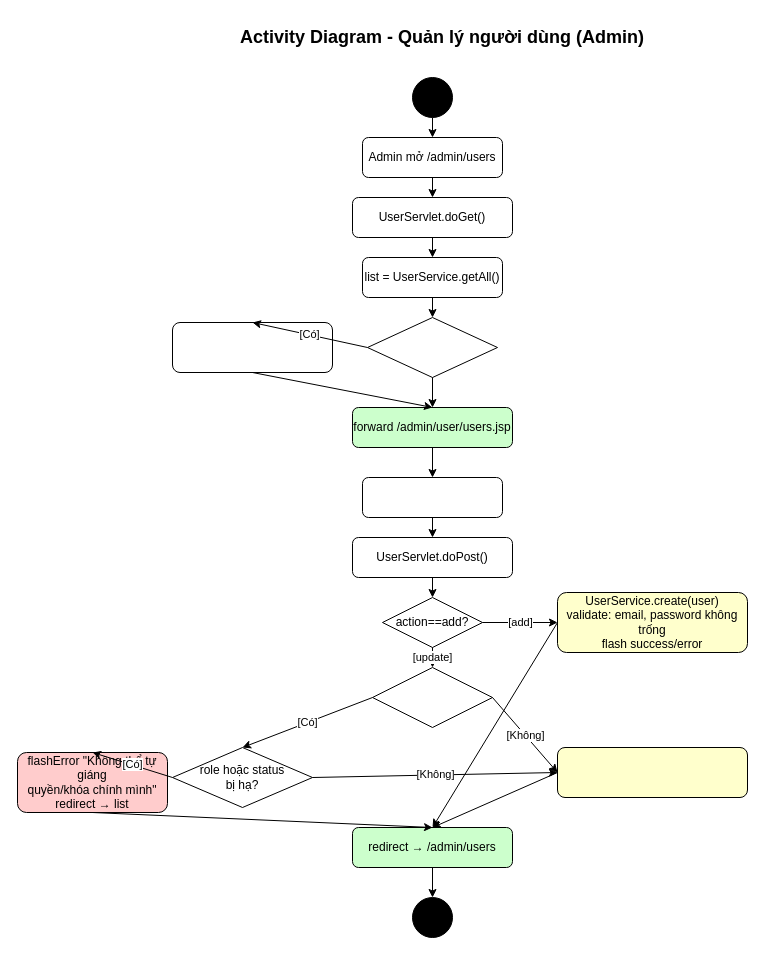
This 765x955 diagram has some shape labels left out. Here are the shapes that lost their labels. From the top down, the centre of each, then its label:
the point at 252,347: Set editingUser + openEditModal
the point at 432,347: action==edit && có id?
the point at 432,497: POST /admin/users
the point at 432,697: currentUser.id == targetId?
the point at 652,772: UserService.update(user) flash success/error
